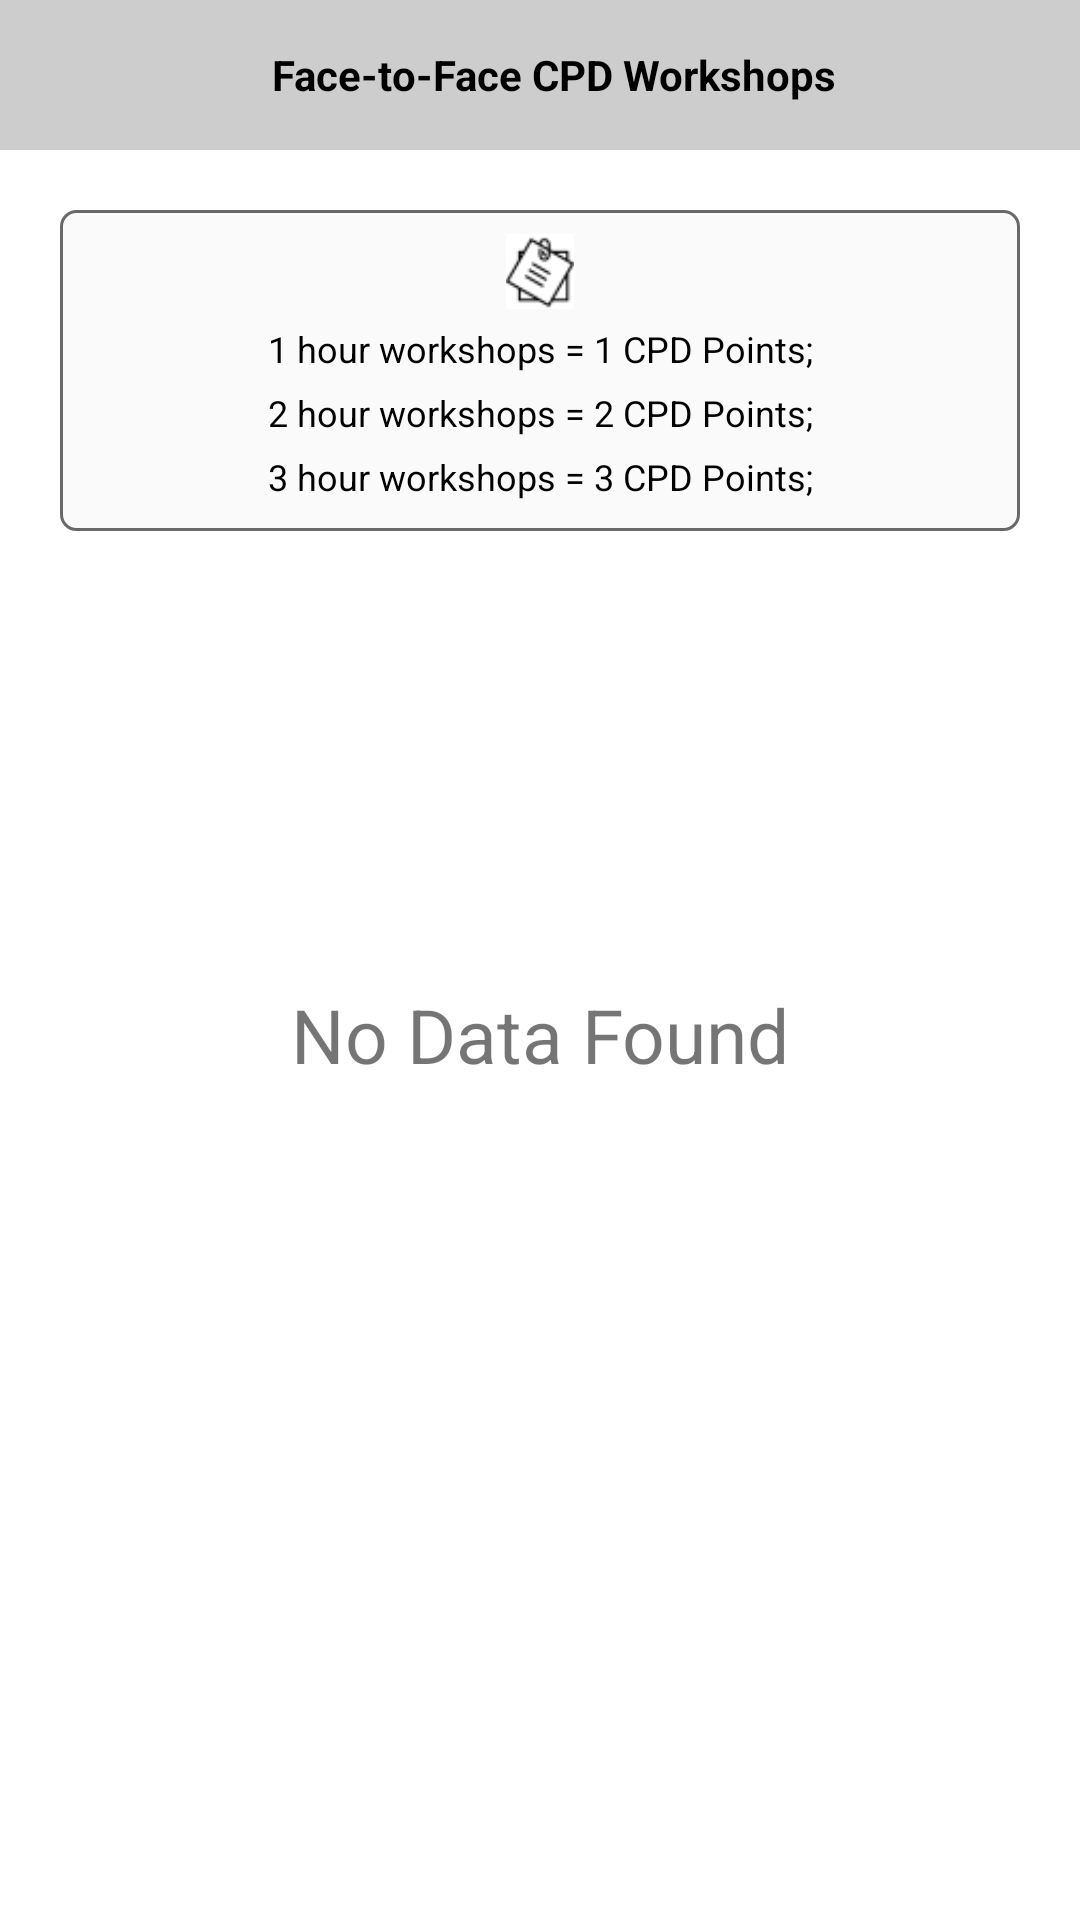

Locate icon controls on the screen. Image size 1080x1920, boxes as (x1, y1, x2, y2).
note: (506, 238, 574, 308)
